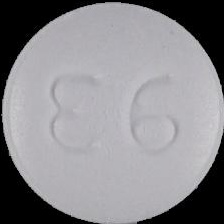0093-0083: (0, 0, 224, 224)
